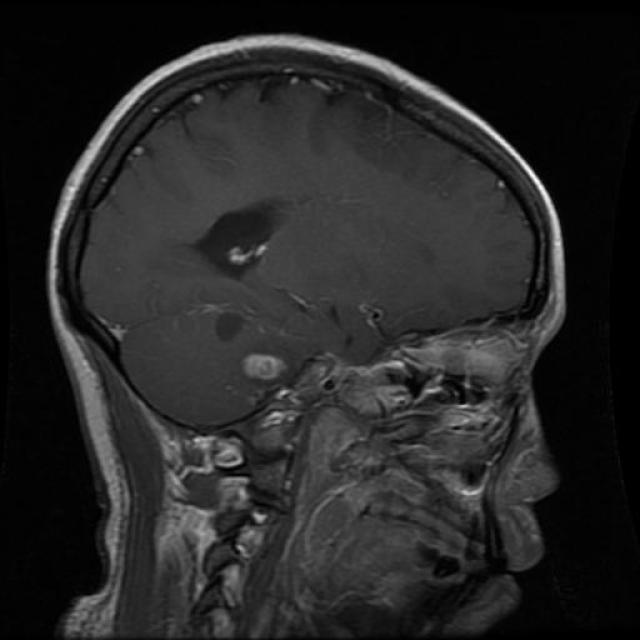glioma: (186, 192, 290, 286)
